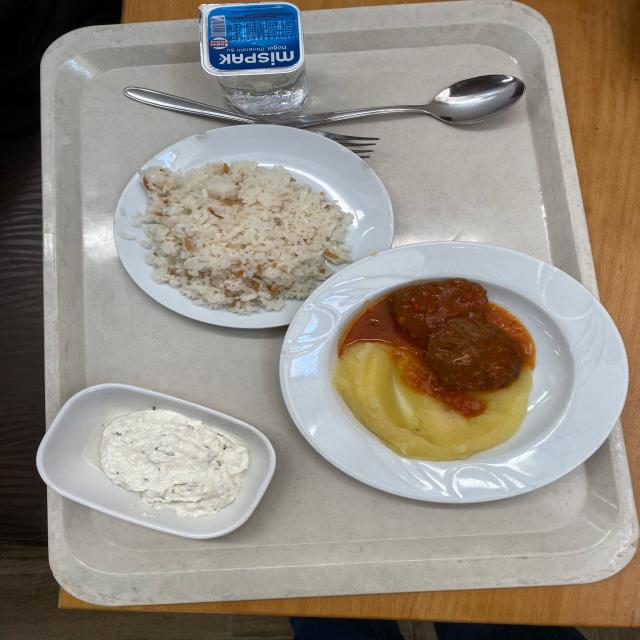ana_yemek: (274, 241, 600, 483), (114, 125, 390, 318)
yan_yemek: (35, 384, 274, 541)
